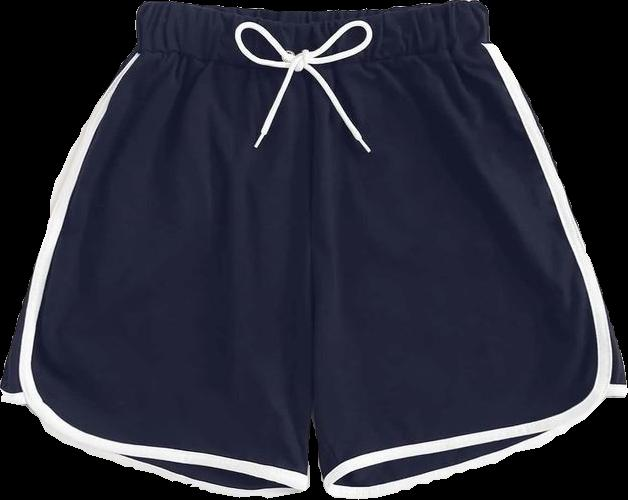Hemline: (324, 392, 627, 490), (0, 397, 305, 492)
Pantleg: (305, 0, 627, 498), (0, 1, 311, 497)
Waistline: (132, 38, 491, 68), (137, 0, 482, 22)
